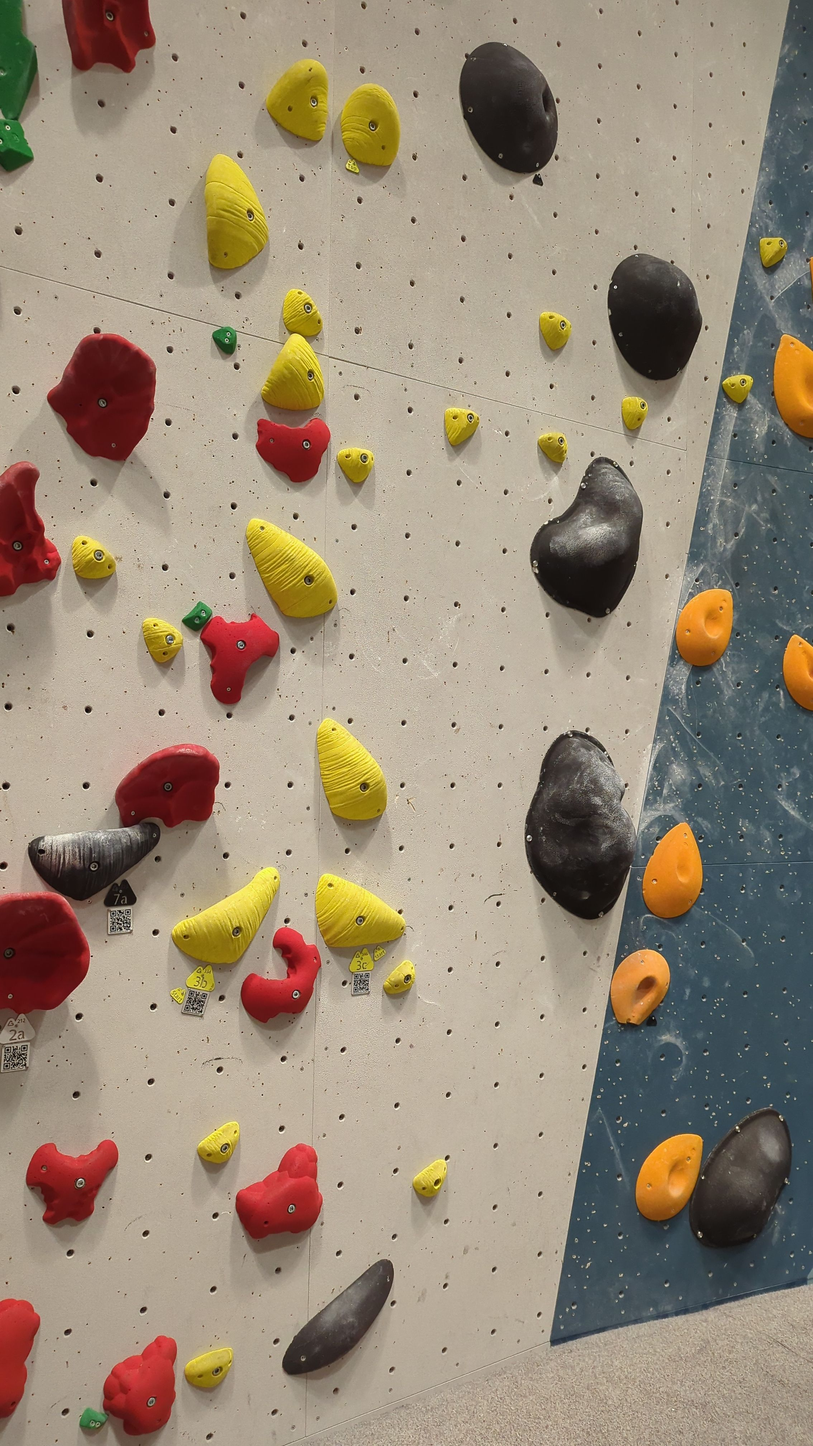hold: (525, 730, 636, 919), (530, 457, 643, 616), (689, 1108, 791, 1247), (47, 333, 156, 462), (282, 1259, 394, 1375), (459, 42, 557, 173), (608, 253, 702, 381), (0, 891, 90, 1014), (171, 867, 280, 965), (29, 820, 160, 901), (246, 518, 337, 619), (115, 744, 219, 828), (236, 1143, 322, 1240), (0, 462, 61, 596), (27, 1140, 118, 1225), (241, 926, 320, 1023), (204, 155, 268, 270), (317, 718, 387, 823), (103, 1336, 176, 1436), (202, 616, 278, 705), (315, 874, 405, 949), (62, 0, 155, 72), (635, 1134, 703, 1221), (642, 822, 703, 918), (266, 59, 328, 142), (341, 84, 400, 166), (261, 335, 324, 411), (0, 1299, 40, 1418), (256, 419, 330, 483), (610, 949, 670, 1025), (675, 589, 733, 666), (0, 0, 37, 119), (774, 335, 813, 438), (783, 635, 813, 710), (71, 535, 116, 580), (185, 1347, 233, 1389), (282, 289, 322, 339), (197, 1121, 239, 1166), (142, 617, 183, 663), (0, 119, 33, 171), (444, 407, 479, 447), (413, 1159, 447, 1199), (337, 447, 374, 483), (539, 312, 571, 350), (383, 960, 415, 996), (722, 373, 753, 405), (182, 601, 213, 632), (538, 432, 567, 465), (622, 396, 648, 431), (759, 237, 787, 269), (211, 326, 237, 355), (80, 1408, 107, 1431)
